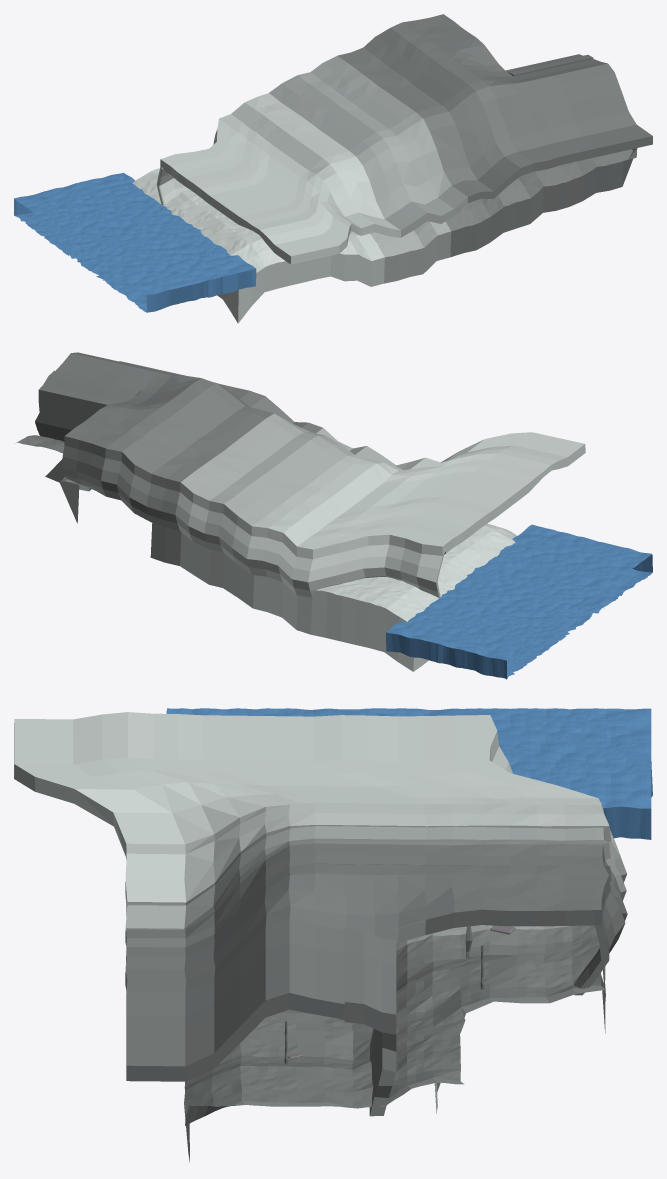
The model's file is Map2_동굴_바닥.fbx.
3 renders of one model, top to bottom at view 1: azimuth 30°, elevation 25°; view 2: azimuth 150°, elevation 25°; view 3: azimuth 270°, elevation 25°, orthographic. The views are drawn at different scales.
Visible parts, largest first — view 1: 2_동굴_천장, 2_동굴_바닥_전체, 2_동굴_Sea, 2_동굴_큰벽, 2_동굴_벽; view 2: 2_동굴_천장, 2_동굴_Sea, 2_동굴_큰벽, 2_동굴_바닥_전체, 2_동굴_벽; view 3: 2_동굴_천장, 2_동굴_바닥_전체, 2_동굴_Sea, 2_동굴_벽, 2_동굴_큰벽.
Part boxes in pixels (x1,y1,x2,y2): 2_동굴_천장: (162,14,652,264); 2_동굴_바닥_전체: (132,148,637,323); 2_동굴_Sea: (14,172,256,312); 2_동굴_큰벽: (156,102,246,205); 2_동굴_벽: (505,54,593,76); 2_동굴_천장: (56,352,585,552); 2_동굴_Sea: (386,524,652,679); 2_동굴_큰벽: (61,445,445,597); 2_동굴_바닥_전체: (16,435,516,671); 2_동굴_벽: (35,370,141,446); 2_동굴_천장: (14,712,611,1081); 2_동굴_바닥_전체: (184,802,605,1162); 2_동굴_Sea: (166,708,652,839); 2_동굴_벽: (344,928,396,1116); 2_동굴_큰벽: (481,715,627,995).
Size of the model in its own units: 39605 by 65641 by 18829.
